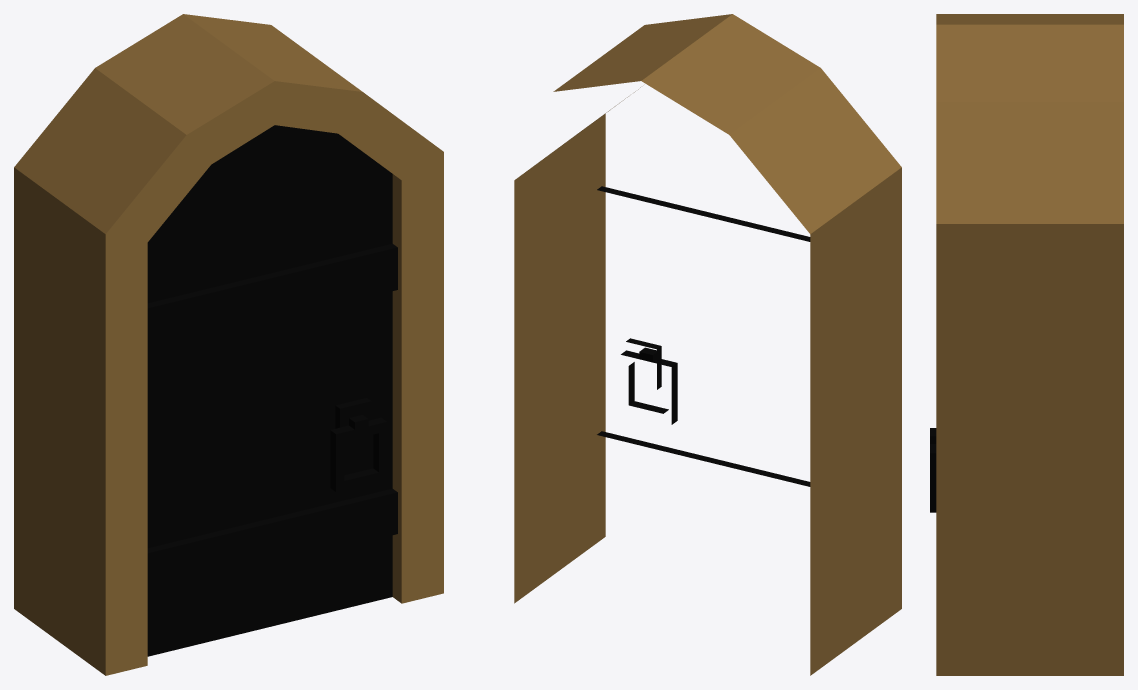
The model's file is HouseAdd_Door.gltf.
The picture shows the model from 3 angles, left to right: view 1: azimuth 30°, elevation 25°; view 2: azimuth 150°, elevation 25°; view 3: azimuth 270°, elevation 25°; orthographic projection. The views are drawn at different scales.
Visible parts, largest first — view 1: SF_Bld_HouseAdd_Door_01; view 2: SF_Bld_HouseAdd_Door_01; view 3: SF_Bld_HouseAdd_Door_01.
Boxes of the visible parts, <box> form: SF_Bld_HouseAdd_Door_01: <box>14,14,443,675</box>; SF_Bld_HouseAdd_Door_01: <box>514,14,901,675</box>; SF_Bld_HouseAdd_Door_01: <box>930,14,1123,675</box>.
Size of the model in its own units: 0.0265 by 0.0415 by 0.0129.
Materials: 1 (1 with a texture image).
